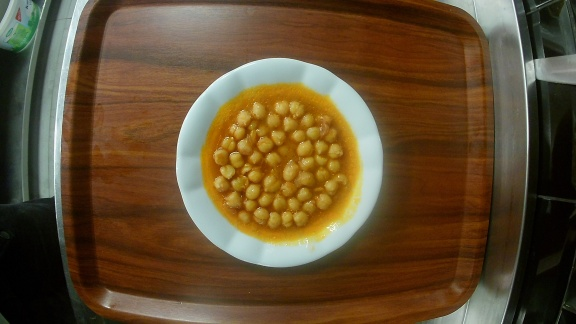sulunohut: (173, 57, 384, 269)
